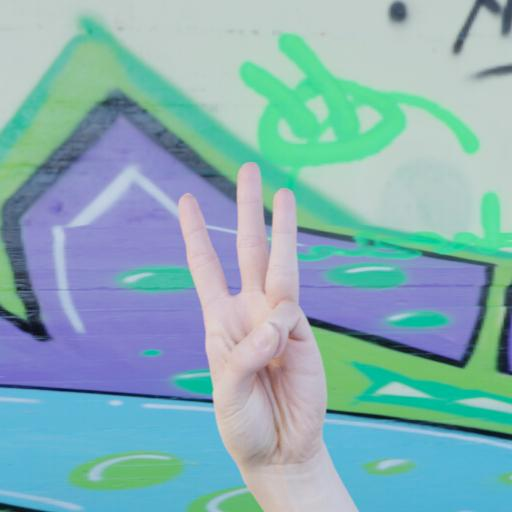W: (157, 156, 359, 512)
